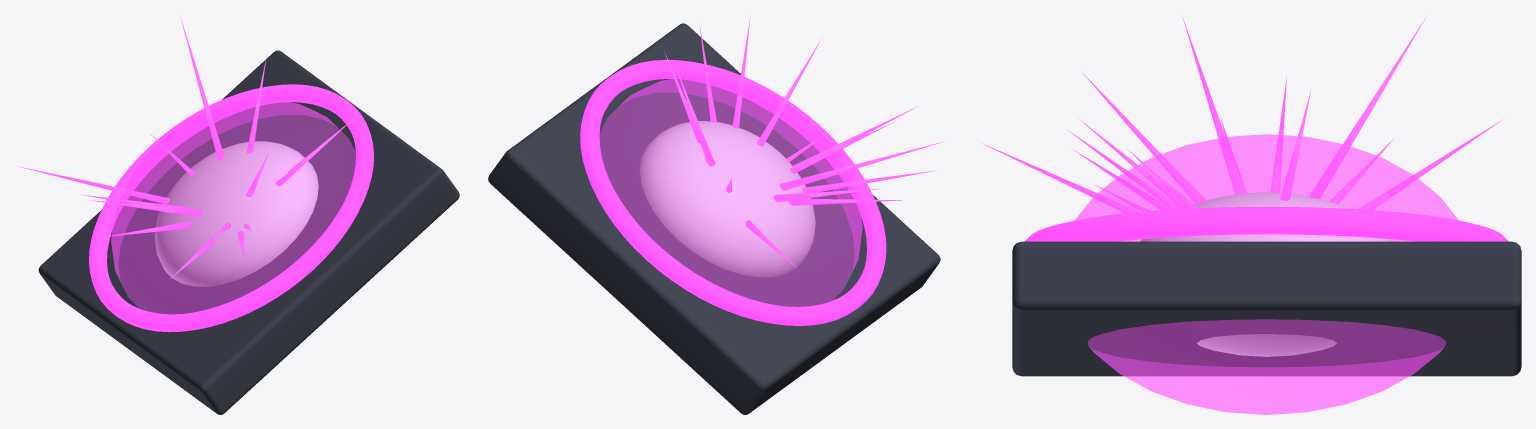
The model's file is Blaster_Impact.fbx.
The picture shows the model from 3 angles, left to right: view 1: azimuth 30°, elevation 25°; view 2: azimuth 150°, elevation 25°; view 3: azimuth 270°, elevation 25°; orthographic projection. The views are drawn at different scales.
Visible parts, largest first — view 1: Blaster_Impact_Pro_Plastic_Grey, Blaster_Impact_Pro_Glass_pink_0.4, Blaster_Impact_Pro_Glow_white_16, Blaster_Impact_Pro_Glow_pink_10, Blaster_Impact_Pro_Glow_pink_16; view 2: Blaster_Impact_Pro_Plastic_Grey, Blaster_Impact_Pro_Glass_pink_0.4, Blaster_Impact_Pro_Glow_white_16, Blaster_Impact_Pro_Glow_pink_10, Blaster_Impact_Pro_Glow_pink_16; view 3: Blaster_Impact_Pro_Plastic_Grey, Blaster_Impact_Pro_Glass_pink_0.4, Blaster_Impact_Pro_Glow_pink_10, Blaster_Impact_Pro_Glow_pink_16, Blaster_Impact_Pro_Glow_white_16.
Part boxes in pixels (x1,y1,x2,y2): Blaster_Impact_Pro_Plastic_Grey: [38, 50, 459, 414]; Blaster_Impact_Pro_Glass_pink_0.4: [111, 99, 355, 313]; Blaster_Impact_Pro_Glow_white_16: [155, 141, 318, 286]; Blaster_Impact_Pro_Glow_pink_10: [89, 84, 373, 332]; Blaster_Impact_Pro_Glow_pink_16: [19, 17, 353, 280]; Blaster_Impact_Pro_Plastic_Grey: [488, 23, 940, 414]; Blaster_Impact_Pro_Glass_pink_0.4: [600, 75, 862, 306]; Blaster_Impact_Pro_Glow_white_16: [639, 121, 815, 277]; Blaster_Impact_Pro_Glow_pink_10: [580, 59, 886, 325]; Blaster_Impact_Pro_Glow_pink_16: [664, 16, 944, 267]; Blaster_Impact_Pro_Plastic_Grey: [1012, 241, 1521, 376]; Blaster_Impact_Pro_Glass_pink_0.4: [1075, 134, 1458, 414]; Blaster_Impact_Pro_Glow_pink_10: [1025, 207, 1508, 241]; Blaster_Impact_Pro_Glow_pink_16: [980, 16, 1503, 213]; Blaster_Impact_Pro_Glow_white_16: [1140, 192, 1393, 356].
Bounding box in the file's own units: 0.2447 × 0.2051 × 0.2351.
